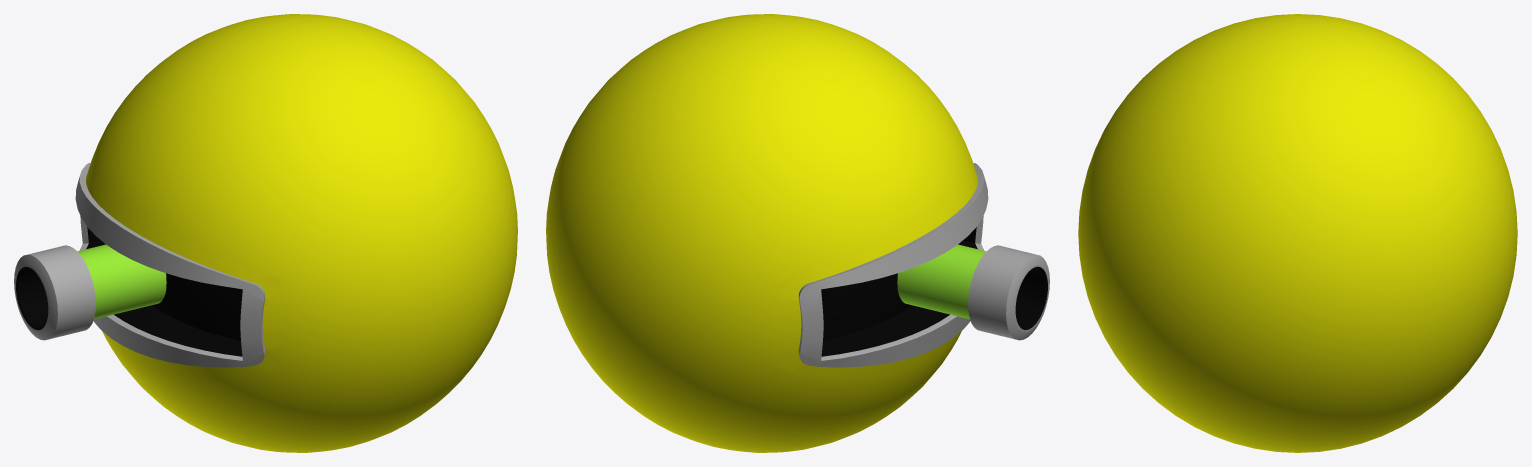
File: Player_body.fbx
The picture shows the model from 3 angles, left to right: view 1: azimuth 30°, elevation 25°; view 2: azimuth 150°, elevation 25°; view 3: azimuth 270°, elevation 25°; orthographic projection.
Visible parts, largest first — view 1: Body, Cannon; view 2: Body, Cannon; view 3: Body.
Part boxes in pixels (<box>): Body: <box>75,14,517,452</box>; Cannon: <box>14,244,166,340</box>; Body: <box>546,14,988,452</box>; Cannon: <box>897,244,1049,340</box>; Body: <box>1078,14,1517,452</box>.
Bounding box in the file's own units: 1 × 1 × 1.2.
